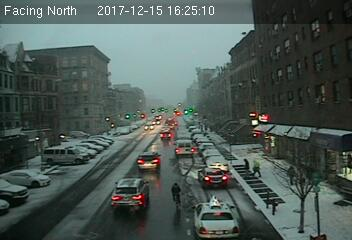bicycle: (171, 178, 183, 212)
car: (192, 197, 240, 239), (110, 177, 148, 210), (197, 168, 228, 186), (135, 152, 161, 170), (159, 131, 172, 138)
pedestrian: (240, 155, 253, 181), (251, 158, 263, 179)
truck: (174, 139, 194, 157)
